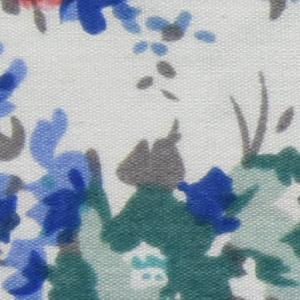Stain: (7, 1, 78, 17)
